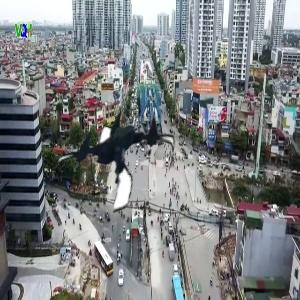drone: (52, 102, 178, 228)
